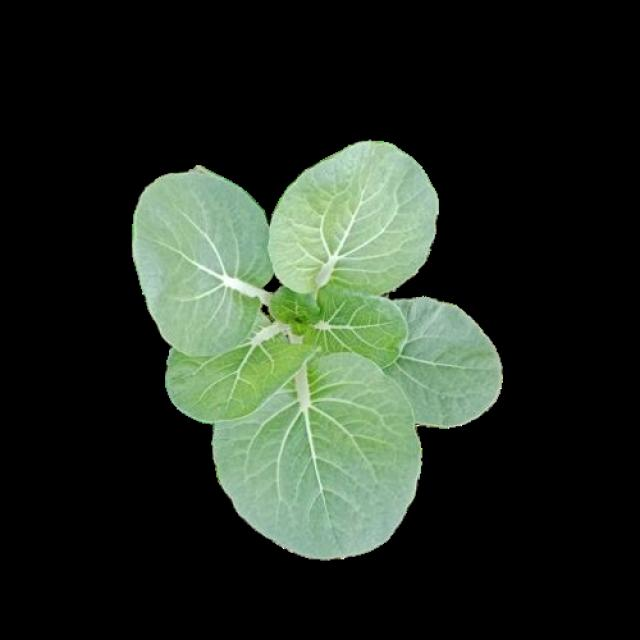healthy: (129, 134, 498, 552)
not-mature: (132, 137, 500, 554)
